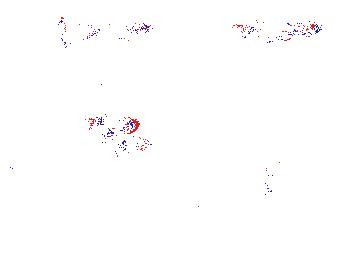X-ray fish: (260, 163, 280, 197), (273, 114, 290, 132)
red belly glassfish: (57, 15, 69, 47)
redtail glassfish: (234, 16, 323, 42), (41, 73, 113, 100), (85, 14, 152, 41), (86, 109, 140, 138), (111, 134, 159, 152)
